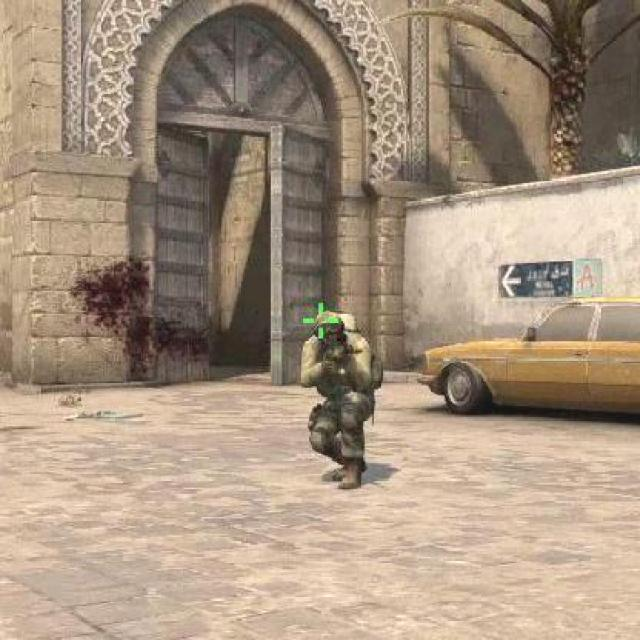CT-Body: (311, 310, 354, 348)
CT-Head: (300, 300, 382, 462)
